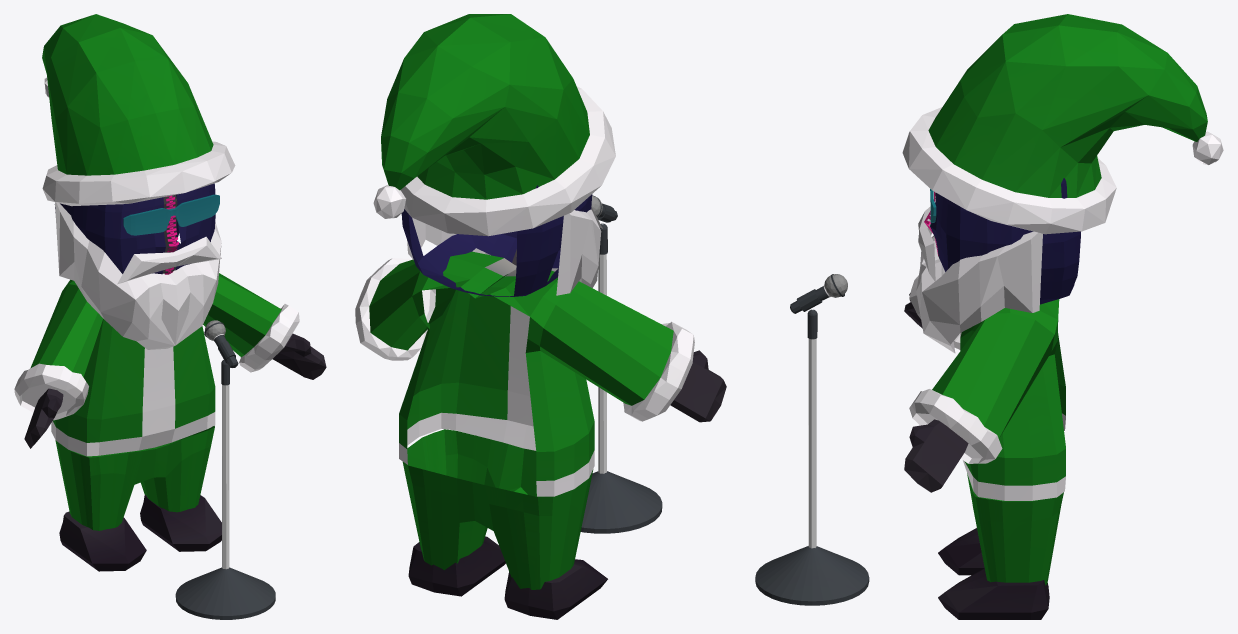
The model's file is santa_e.glb.
The picture shows the model from 3 angles, left to right: view 1: azimuth 30°, elevation 25°; view 2: azimuth 150°, elevation 25°; view 3: azimuth 270°, elevation 25°; orthographic projection. The views are drawn at different scales.
Visible parts, largest first — view 1: hontai.001, boushi, hige-e, zubon, stand, kao-e, kutu-r, kutu-l, sunguras, hanahige-e, maiku; view 2: hontai.001, boushi, zubon, kao-e, stand, hige-e, kutu-r, kutu-l; view 3: boushi, hontai.001, hige-e, stand, zubon, kao-e, kutu-l, kutu-r, hanahige-e, maiku.
Boxes of the visible parts, box(x1,y1,x2,y2) form: hontai.001: box(14, 267, 326, 456); boushi: box(42, 14, 235, 206); hige-e: box(55, 202, 221, 349); zubon: box(55, 425, 214, 530); stand: box(175, 360, 275, 619); kao-e: box(54, 183, 215, 274); kutu-r: box(59, 511, 146, 571); kutu-l: box(140, 495, 221, 551); sunguras: box(123, 194, 219, 235); hanahige-e: box(117, 236, 221, 284); maiku: box(205, 320, 238, 367); hontai.001: box(355, 251, 726, 496); boushi: box(373, 14, 615, 236); zubon: box(402, 429, 593, 589); kao-e: box(401, 185, 592, 296); stand: box(580, 223, 662, 533); hige-e: box(407, 209, 601, 295); kutu-r: box(504, 559, 607, 619); kutu-l: box(408, 536, 505, 596); boushi: box(902, 14, 1223, 234); hontai.001: box(904, 275, 1065, 500); hige-e: box(916, 231, 1042, 353); stand: box(755, 309, 869, 605); zubon: box(967, 473, 1063, 585); kao-e: box(924, 178, 1080, 304); kutu-l: box(938, 568, 1049, 619); kutu-r: box(938, 528, 984, 575); hanahige-e: box(918, 206, 935, 281); maiku: box(790, 274, 847, 313).
Bounding box in the file's own units: 5.46 × 8.98 × 6.77.
Materials: 17 (16 with a texture image).
